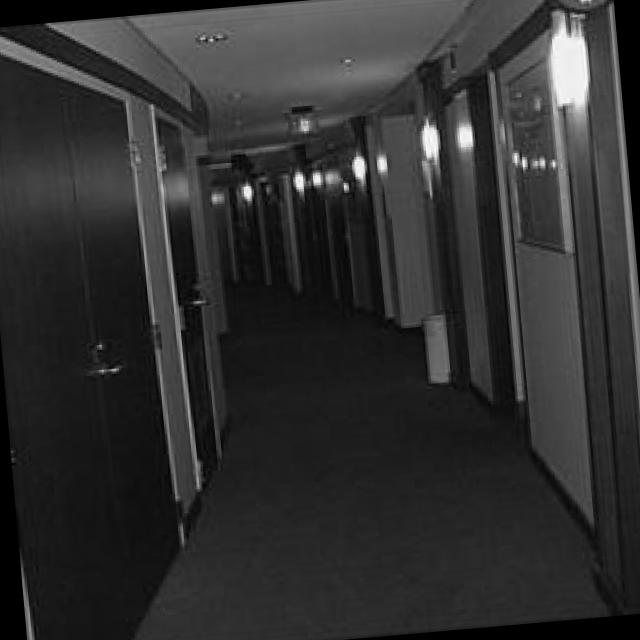door bars: (0, 50, 176, 640)
floor -X: (127, 278, 609, 640)
light fixture: (548, 31, 585, 104)
painting crop: (497, 52, 565, 251)
